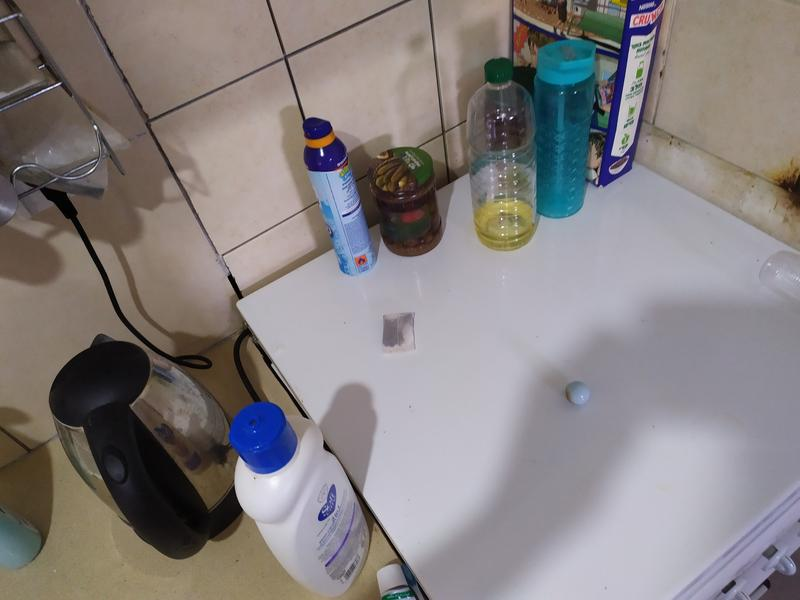Warning: (563, 379, 593, 407)
